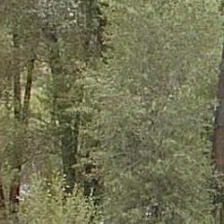neutral: (2, 3, 223, 224)
